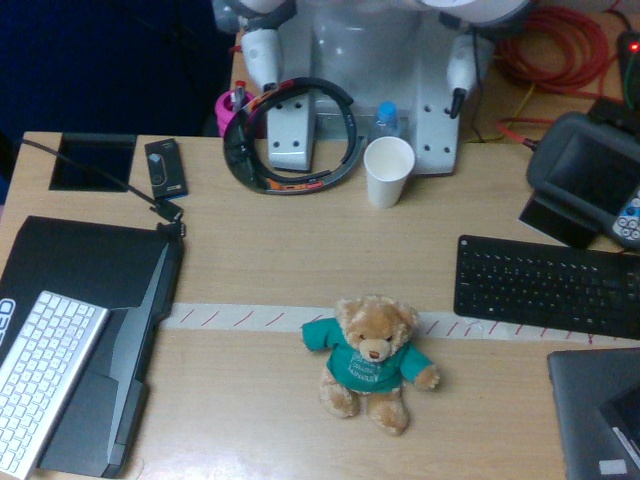teddy: (302, 296, 442, 435)
